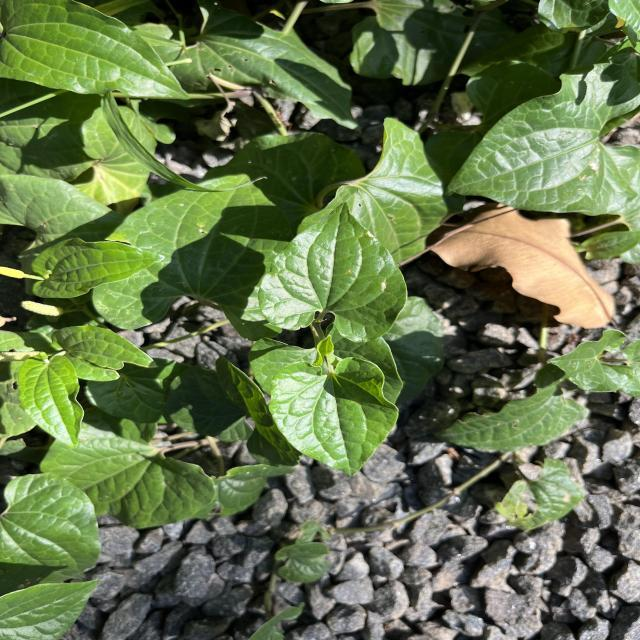Piper longum: (256, 200, 410, 344), (267, 354, 401, 479)
